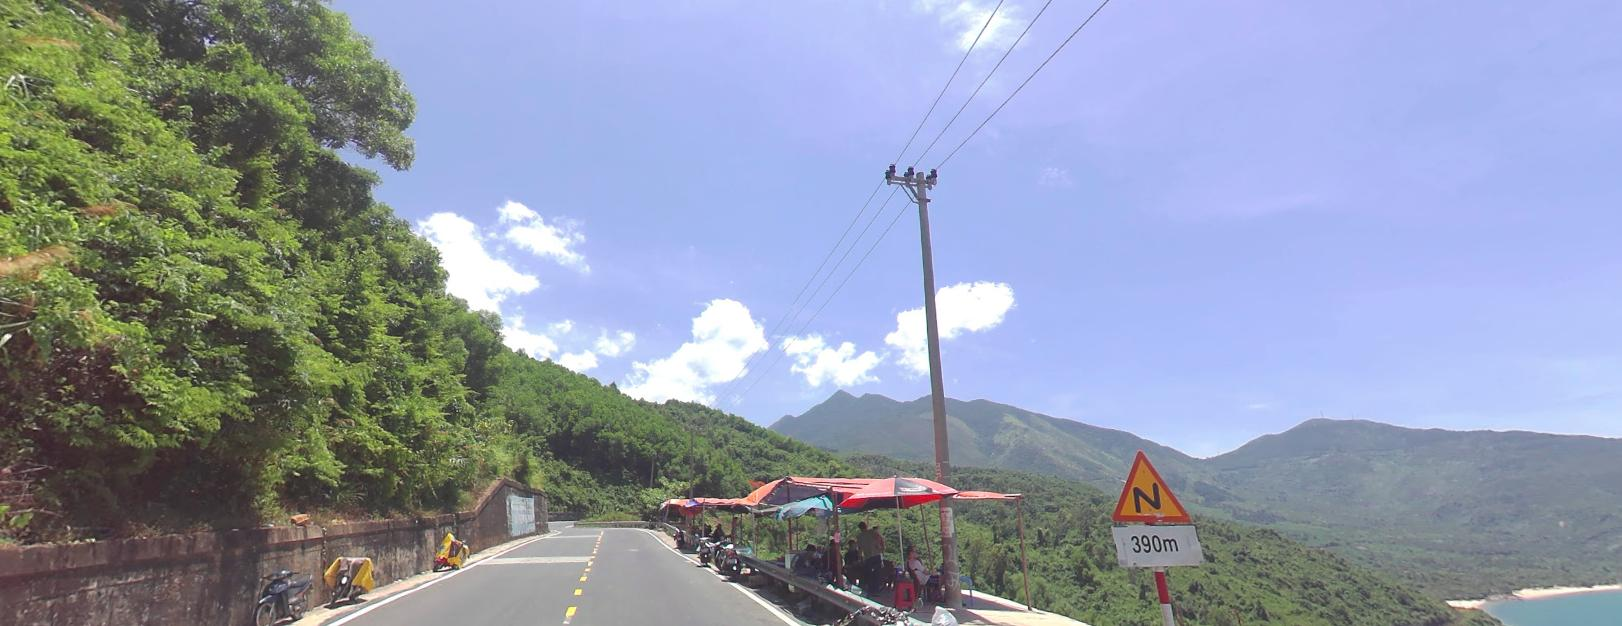Nguy hiem: (1093, 443, 1204, 539)
